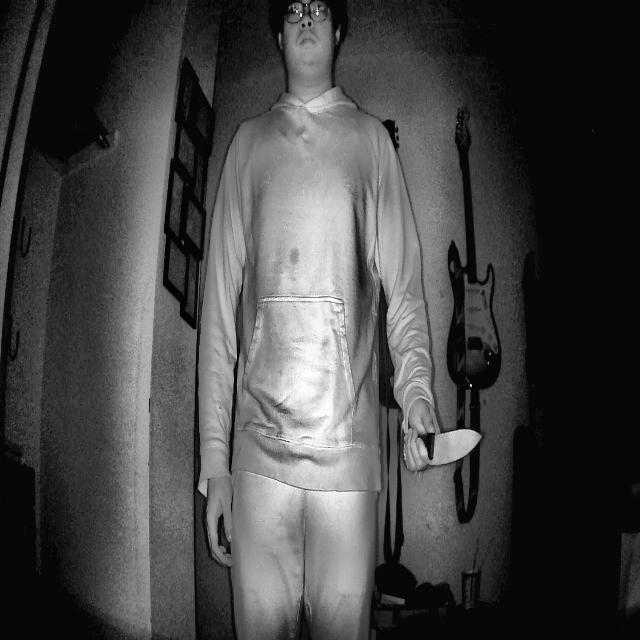knife: (396, 397, 488, 493)
